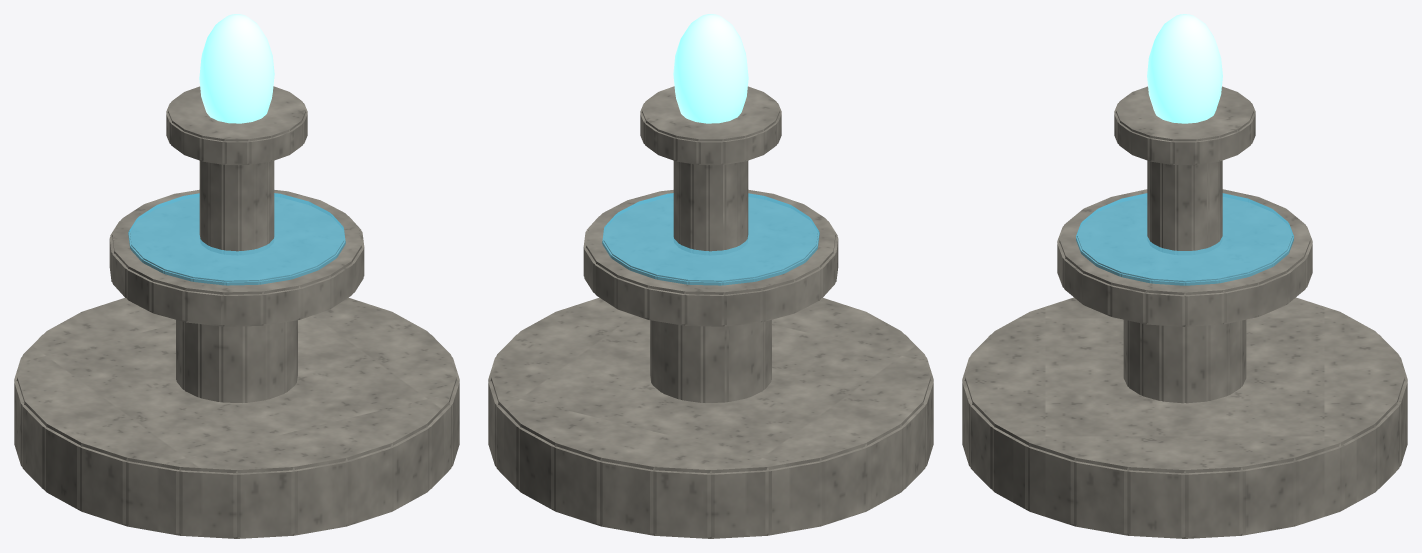
File: env_fountain.glb
3 views of the same model, side by side, from view 1: azimuth 30°, elevation 25°; view 2: azimuth 150°, elevation 25°; view 3: azimuth 270°, elevation 25° (orthographic).
Parts seen in each view (by area): view 1: env_fountain; view 2: env_fountain; view 3: env_fountain.
Part boxes in pixels (x1,y1,x2,y2): env_fountain: (14,14,459,538); env_fountain: (488,14,933,538); env_fountain: (962,14,1407,538).
Bounding box in the file's own units: 1.88 × 2 × 1.88.
3 materials, 1 textured.
